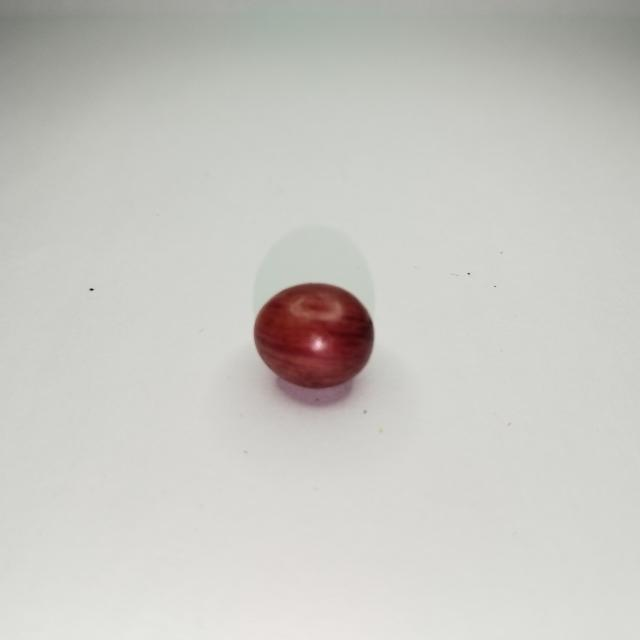Sano: (254, 283, 373, 399)
